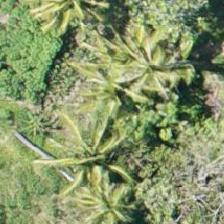coconut_tree: (103, 19, 193, 109), (45, 106, 135, 196), (61, 169, 151, 223)
